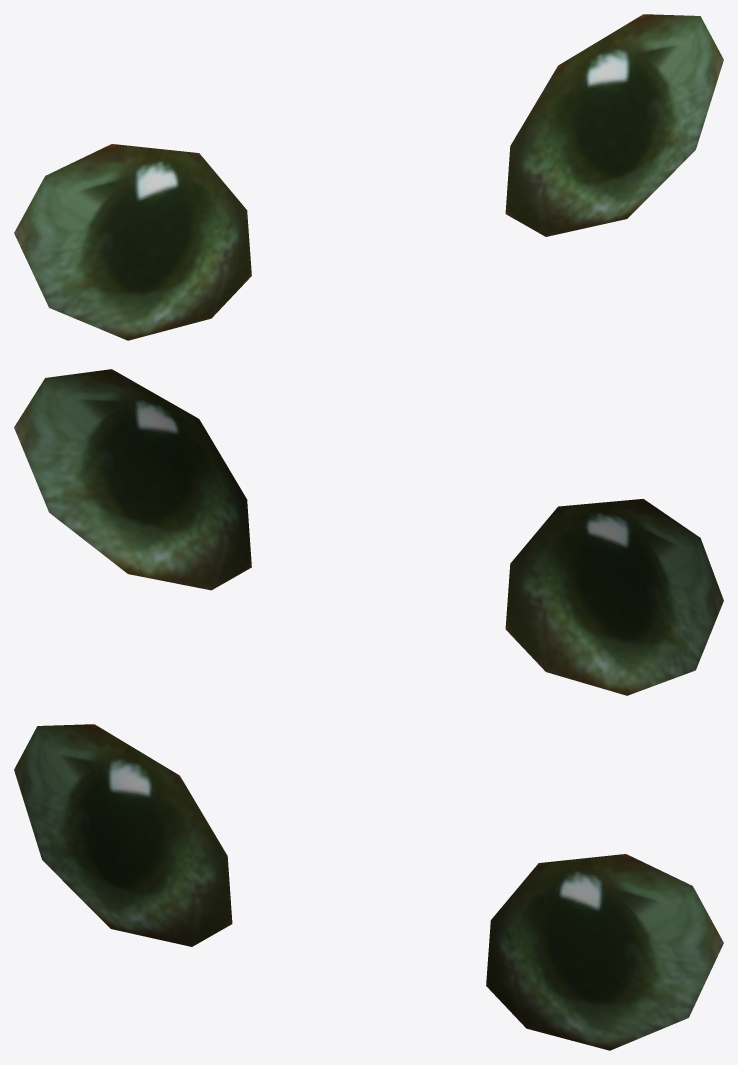
Rendered from cat_eye.fbx.
3 renders of one model, top to bottom at view 1: azimuth 30°, elevation 25°; view 2: azimuth 150°, elevation 25°; view 3: azimuth 330°, elevation 25°, orthographic.
Visible parts, largest first — view 1: cat_eye; view 2: cat_eye; view 3: cat_eye.
Part boxes in pixels (left/top/right/bottom): cat_eye: left=14, top=14, right=723, bottom=340; cat_eye: left=14, top=369, right=723, bottom=695; cat_eye: left=14, top=724, right=723, bottom=1050.
Size of the model in its own units: 121 by 32.79 by 4.57.
Materials: 1 (1 with a texture image).
